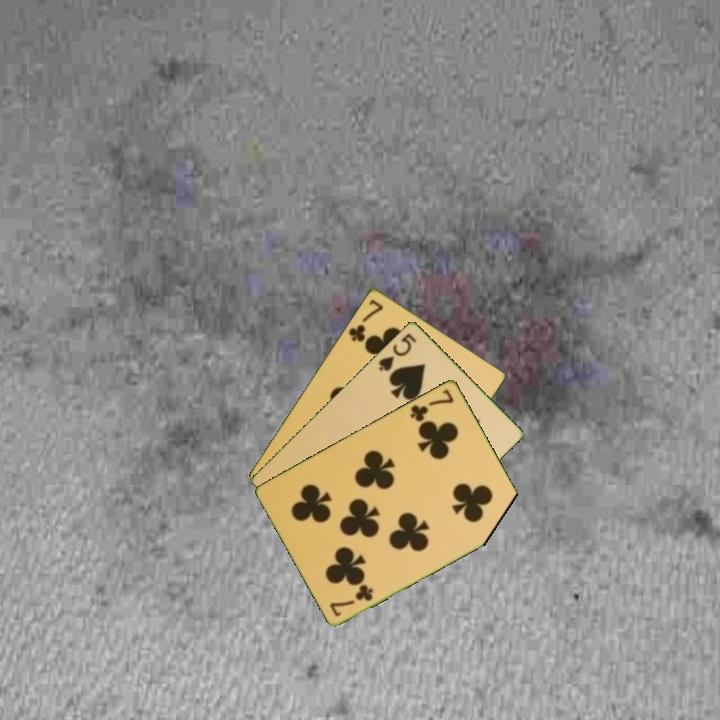5s: (375, 329, 419, 374)
7c: (345, 295, 386, 345), (406, 385, 457, 425), (326, 580, 376, 619)
